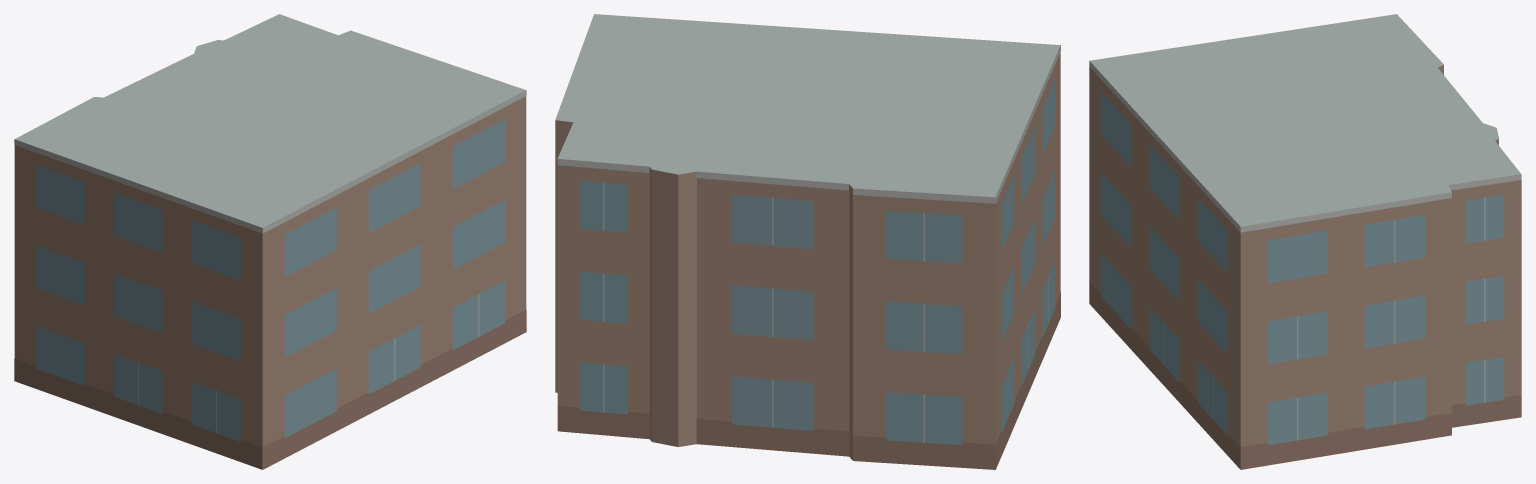
File: survey-upis-32863575.glb
3 renders of one model, left to right at view 1: azimuth 30°, elevation 25°; view 2: azimuth 150°, elevation 25°; view 3: azimuth 270°, elevation 25°, orthographic. The views are drawn at different scales.
Visible parts, largest first — view 1: survey-upis-32863575.tmp; view 2: survey-upis-32863575.tmp; view 3: survey-upis-32863575.tmp.
Part boxes in pixels (x1,y1,x2,y2): survey-upis-32863575.tmp: [14, 14, 526, 469]; survey-upis-32863575.tmp: [555, 14, 1060, 469]; survey-upis-32863575.tmp: [1089, 14, 1521, 469].
Bounding box in the file's own units: 19.35 × 10.3 × 16.61.
